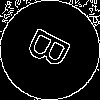B: (25, 25, 81, 76)
